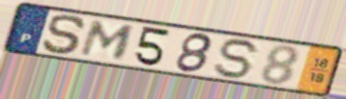5: (133, 25, 172, 67)
8: (259, 44, 302, 88), (174, 32, 214, 74)
M: (77, 19, 139, 62)
S: (212, 38, 264, 81), (40, 13, 89, 56)
